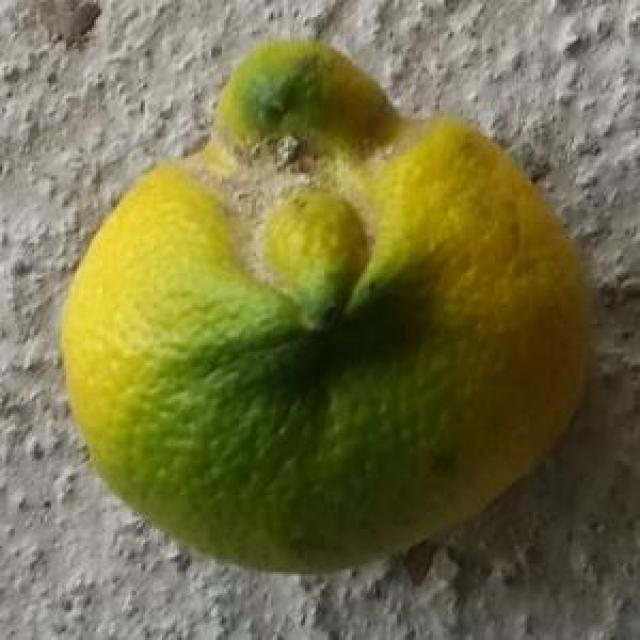lemon: (54, 38, 595, 577)
